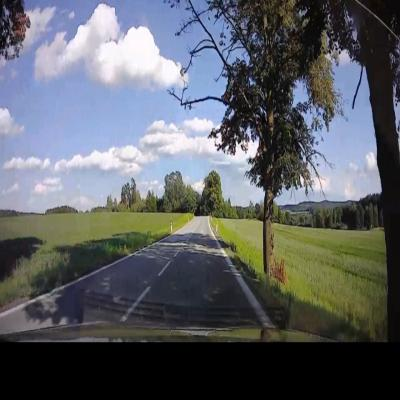clear-road: (83, 217, 250, 308)
